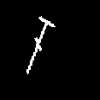double_crochet: (27, 16, 54, 73)
